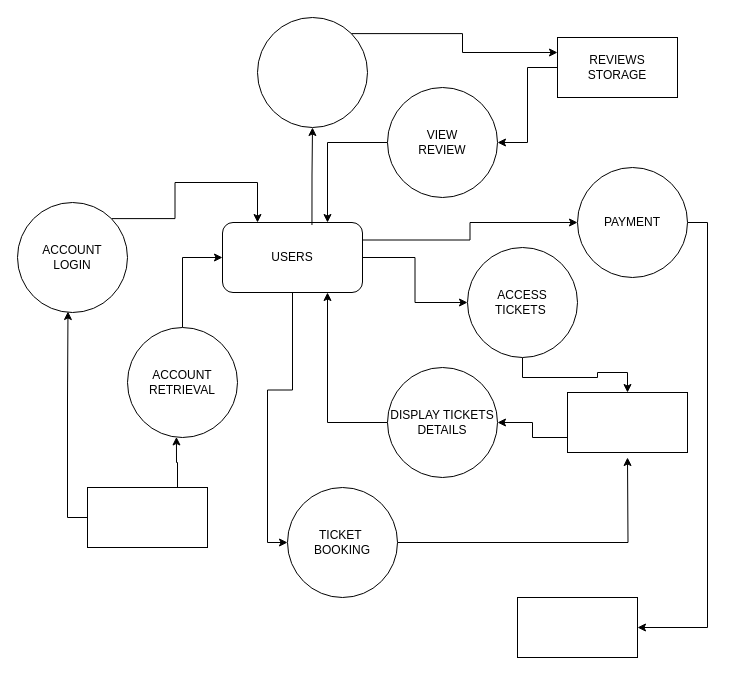
This 733x675 diagram has some shape labels left out. The shapes that lost their labels are listed below. From the top down, each one's centre as x and y in pixels, then its label:
At (312,72): "ADD FEEDBACK".
At (627,422): "TICKETS STORAGE".
At (147,517): "USERS PROFILES STORAGE".
At (577,627): "PAYMENT STORAGE".
